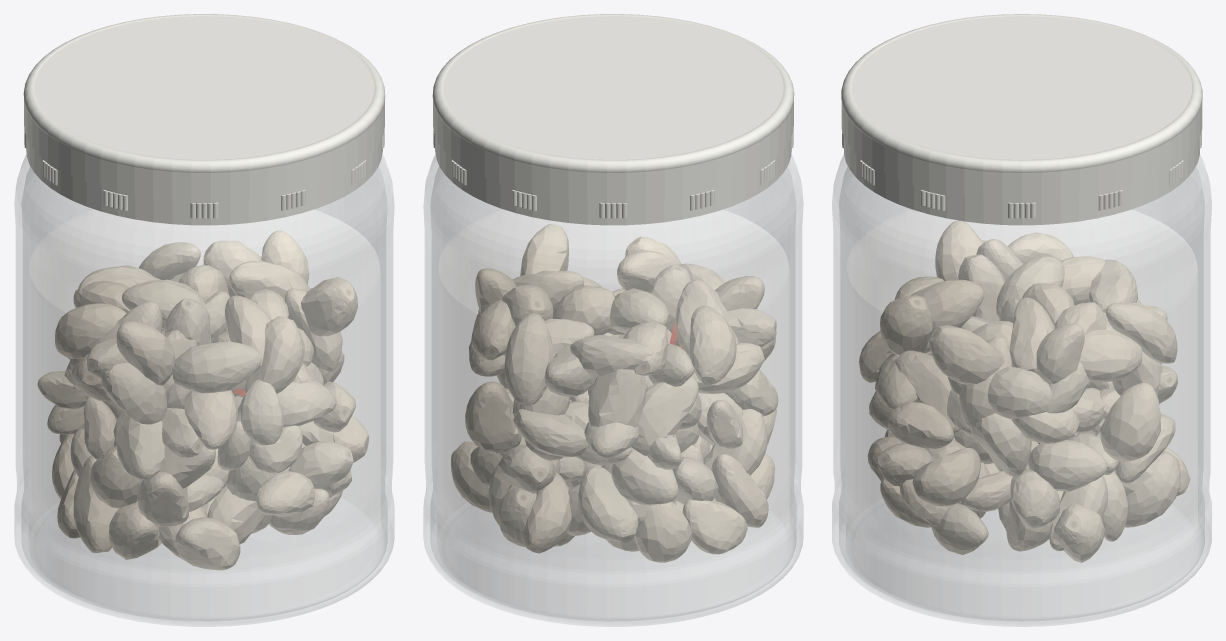
File: PROP_garlic_vinegar_jar_v005_GAME.glb
3 renders of one model, left to right at view 1: azimuth 30°, elevation 25°; view 2: azimuth 150°, elevation 25°; view 3: azimuth 270°, elevation 25°, orthographic.
Visible parts, largest first — view 1: Jar_Body, Lid_Shell, Vinegar_Transparent_Fill_83mm, Garlic_UserClove_RealMesh_Variant_06, Garlic_UserClove_RealMesh_Variant_04, Garlic_UserClove_RealMesh_Variant_02, Garlic_UserClove_RealMesh_Variant_03, Garlic_UserClove_RealMesh_Variant_05, Garlic_UserClove_RealMesh_Variant_01, Lid_Grip_Ribs; view 2: Jar_Body, Lid_Shell, Vinegar_Transparent_Fill_83mm, Garlic_UserClove_RealMesh_Variant_03, Garlic_UserClove_RealMesh_Variant_06, Garlic_UserClove_RealMesh_Variant_01, Garlic_UserClove_RealMesh_Variant_02, Garlic_UserClove_RealMesh_Variant_05, Garlic_UserClove_RealMesh_Variant_04, Lid_Grip_Ribs; view 3: Jar_Body, Lid_Shell, Vinegar_Transparent_Fill_83mm, Garlic_UserClove_RealMesh_Variant_01, Garlic_UserClove_RealMesh_Variant_06, Garlic_UserClove_RealMesh_Variant_03, Garlic_UserClove_RealMesh_Variant_02, Garlic_UserClove_RealMesh_Variant_04, Garlic_UserClove_RealMesh_Variant_05, Lid_Grip_Ribs.
Boxes of the visible parts, <box> form: Jar_Body: <box>14,154,394,626</box>; Lid_Shell: <box>23,14,385,225</box>; Vinegar_Transparent_Fill_83mm: <box>29,210,379,533</box>; Garlic_UserClove_RealMesh_Variant_06: <box>52,230,368,559</box>; Garlic_UserClove_RealMesh_Variant_04: <box>73,256,342,566</box>; Garlic_UserClove_RealMesh_Variant_02: <box>72,260,357,543</box>; Garlic_UserClove_RealMesh_Variant_03: <box>70,242,342,516</box>; Garlic_UserClove_RealMesh_Variant_05: <box>59,279,313,511</box>; Garlic_UserClove_RealMesh_Variant_01: <box>37,273,353,570</box>; Lid_Grip_Ribs: <box>24,129,384,218</box>; Jar_Body: <box>423,154,803,626</box>; Lid_Shell: <box>432,14,794,225</box>; Vinegar_Transparent_Fill_83mm: <box>438,210,788,533</box>; Garlic_UserClove_RealMesh_Variant_03: <box>470,265,776,547</box>; Garlic_UserClove_RealMesh_Variant_06: <box>465,236,774,562</box>; Garlic_UserClove_RealMesh_Variant_01: <box>451,279,743,512</box>; Garlic_UserClove_RealMesh_Variant_02: <box>469,224,767,553</box>; Garlic_UserClove_RealMesh_Variant_05: <box>475,263,778,546</box>; Garlic_UserClove_RealMesh_Variant_04: <box>471,250,776,527</box>; Lid_Grip_Ribs: <box>433,129,793,218</box>; Jar_Body: <box>832,155,1211,626</box>; Lid_Shell: <box>841,14,1202,225</box>; Vinegar_Transparent_Fill_83mm: <box>846,210,1197,536</box>; Garlic_UserClove_RealMesh_Variant_01: <box>875,239,1175,562</box>; Garlic_UserClove_RealMesh_Variant_06: <box>868,232,1160,526</box>; Garlic_UserClove_RealMesh_Variant_03: <box>859,240,1180,554</box>; Garlic_UserClove_RealMesh_Variant_02: <box>887,297,1190,551</box>; Garlic_UserClove_RealMesh_Variant_04: <box>880,220,1159,527</box>; Garlic_UserClove_RealMesh_Variant_05: <box>895,256,1161,541</box>; Lid_Grip_Ribs: <box>842,130,1201,218</box>.
Size of the model in its own units: 0.1 by 0.1351 by 0.0999.
10 materials, 6 textured.
